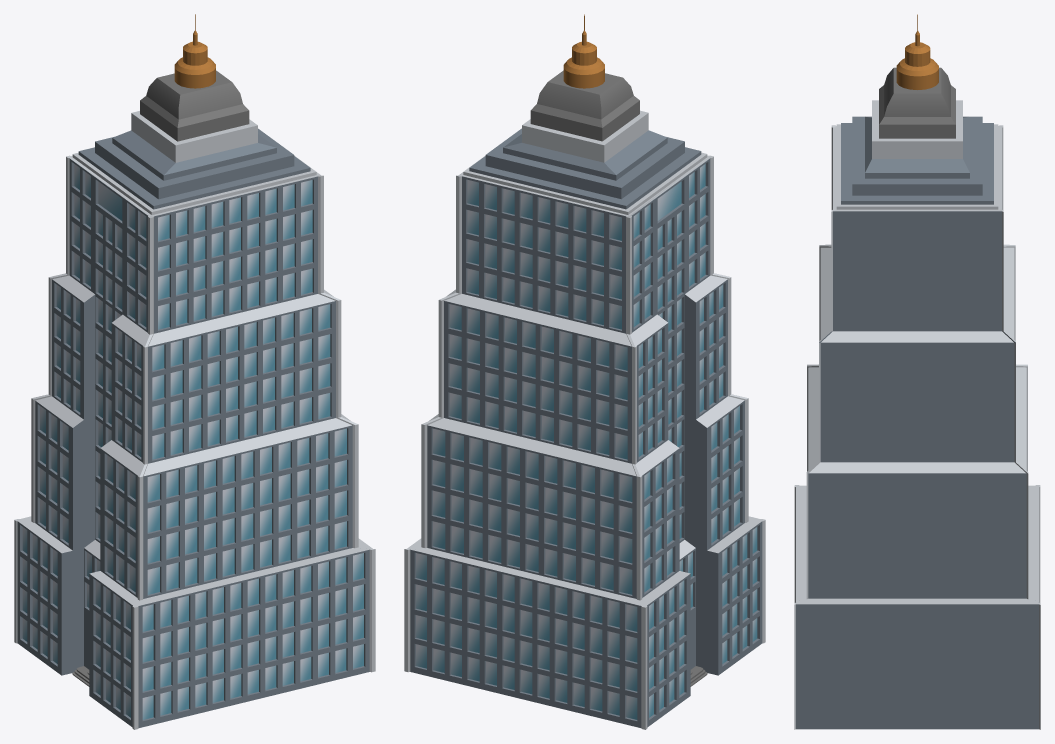
File: Building05WTextures.fbx
The picture shows the model from 3 angles, left to right: view 1: azimuth 30°, elevation 25°; view 2: azimuth 150°, elevation 25°; view 3: azimuth 270°, elevation 25°; orthographic projection. The views are drawn at different scales.
Visible parts, largest first — view 1: Cylinder002; view 2: Cylinder002; view 3: Cylinder002.
Boxes of the visible parts, box(x1,y1,x2,y2) form: Cylinder002: box(14, 14, 375, 729); Cylinder002: box(404, 14, 765, 729); Cylinder002: box(794, 14, 1040, 729).
Size of the model in its own units: 225 by 572 by 195.
